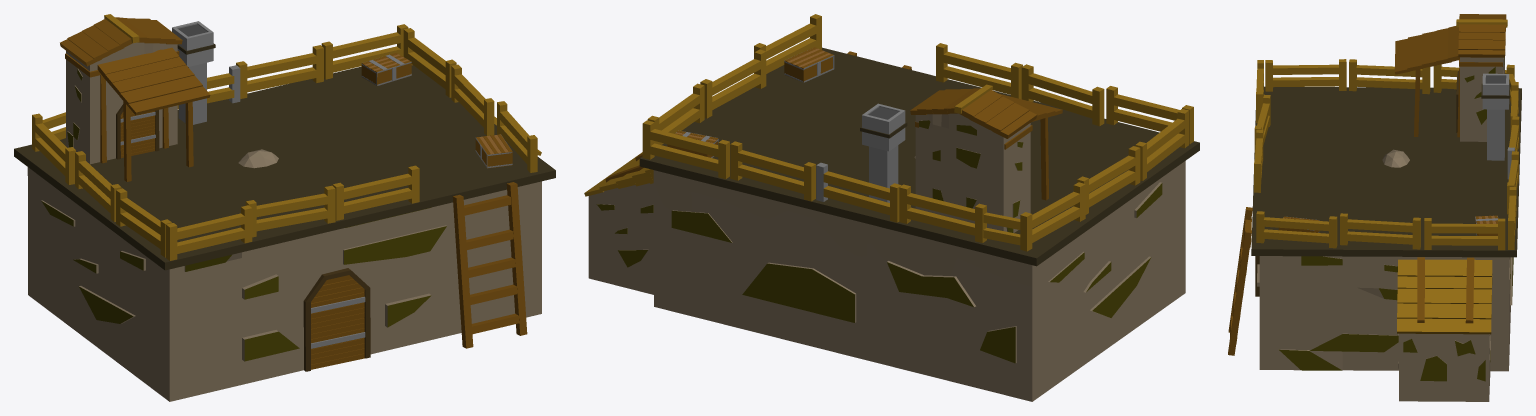
Rendered from house1.glb.
3 views of the same model, side by side, from view 1: azimuth 30°, elevation 25°; view 2: azimuth 150°, elevation 25°; view 3: azimuth 270°, elevation 25° (orthographic). The views are drawn at different scales.
Visible parts, largest first — view 1: Cube.030, Cube.031, Cube.323, Cube.309, Cube.352, Cube.311, Cube.312, Cube.310, Cube.336, Cube.337, Cube.343, Cube.338 (+32 smaller); view 2: Cube.030, Cube.031, Cube.323, Cube.024, Cube.352, Cube.413, Cube.274, Cube.273, Cube.300, Cube.261, Cube.262, Cube.299 (+21 smaller); view 3: Cube.031, Cube.030, Cube.024, Cube.323, Cube.352, Cube.029, Cube.025, Cube.026, Cube.027, Cube.028, Cube.312, Cube.258 (+26 smaller).
Boxes of the visible parts, x1=… form: Cube.030: x1=27, y1=167, x2=541, y2=401; Cube.031: x1=14, y1=65, x2=555, y2=270; Cube.323: x1=66, y1=42, x2=177, y2=164; Cube.309: x1=311, y1=292, x2=364, y2=369; Cube.352: x1=172, y1=21, x2=215, y2=124; Cube.311: x1=452, y1=194, x2=473, y2=348; Cube.312: x1=506, y1=182, x2=527, y2=335; Cube.310: x1=303, y1=268, x2=370, y2=371; Cube.336: x1=128, y1=86, x2=210, y2=115; Cube.337: x1=120, y1=75, x2=202, y2=106; Cube.343: x1=120, y1=111, x2=155, y2=158; Cube.338: x1=111, y1=65, x2=194, y2=96; Cube.030: x1=653, y1=161, x2=1185, y2=401; Cube.031: x1=639, y1=47, x2=1199, y2=266; Cube.323: x1=915, y1=113, x2=1030, y2=232; Cube.024: x1=588, y1=183, x2=653, y2=294; Cube.352: x1=860, y1=103, x2=907, y2=202; Cube.413: x1=784, y1=47, x2=833, y2=82; Cube.274: x1=905, y1=193, x2=976, y2=221; Cube.273: x1=905, y1=207, x2=976, y2=235; Cube.300: x1=941, y1=52, x2=1012, y2=80; Cube.261: x1=650, y1=143, x2=718, y2=171; Cube.262: x1=650, y1=129, x2=718, y2=156; Cube.299: x1=941, y1=66, x2=1012, y2=94; Cube.031: x1=1251, y1=86, x2=1521, y2=257; Cube.030: x1=1257, y1=256, x2=1513, y2=371; Cube.024: x1=1398, y1=333, x2=1490, y2=401; Cube.323: x1=1460, y1=57, x2=1504, y2=141; Cube.352: x1=1481, y1=73, x2=1510, y2=160; Cube.029: x1=1397, y1=259, x2=1492, y2=276; Cube.025: x1=1397, y1=318, x2=1491, y2=334; Cube.026: x1=1397, y1=303, x2=1491, y2=319; Cube.027: x1=1397, y1=288, x2=1491, y2=303; Cube.028: x1=1397, y1=275, x2=1492, y2=289; Cube.312: x1=1228, y1=229, x2=1251, y2=355; Cube.258: x1=1430, y1=223, x2=1499, y2=233.
Size of the model in its own units: 21.59 by 11.87 by 13.91.
